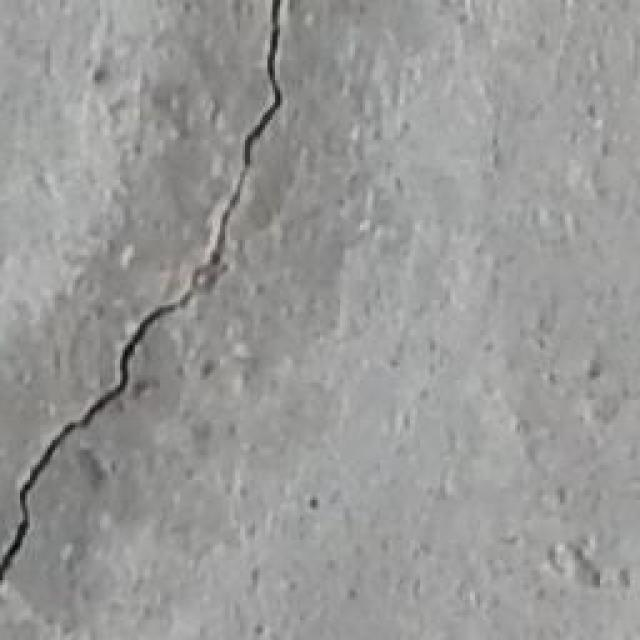concrete-crack: (0, 1, 289, 587)
